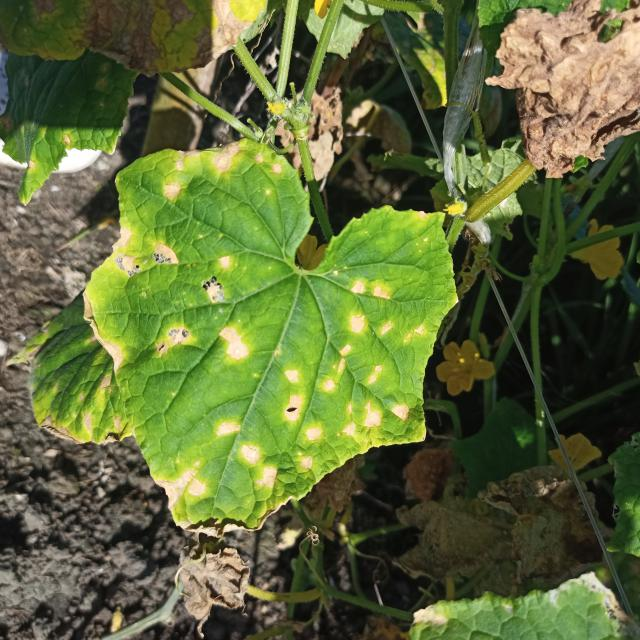disease_cucumber: (87, 145, 438, 524)
